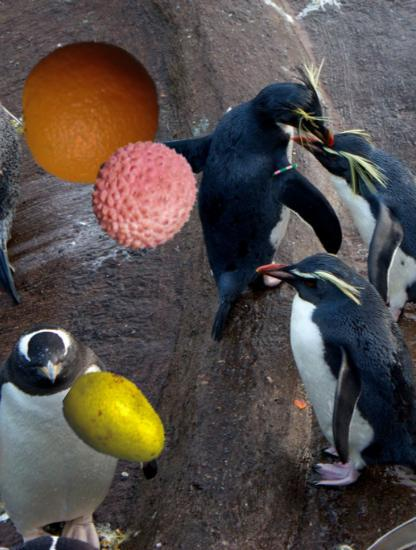Lychee: (87, 139, 202, 254)
Orange: (17, 38, 165, 186)
Pear: (61, 363, 175, 477)
